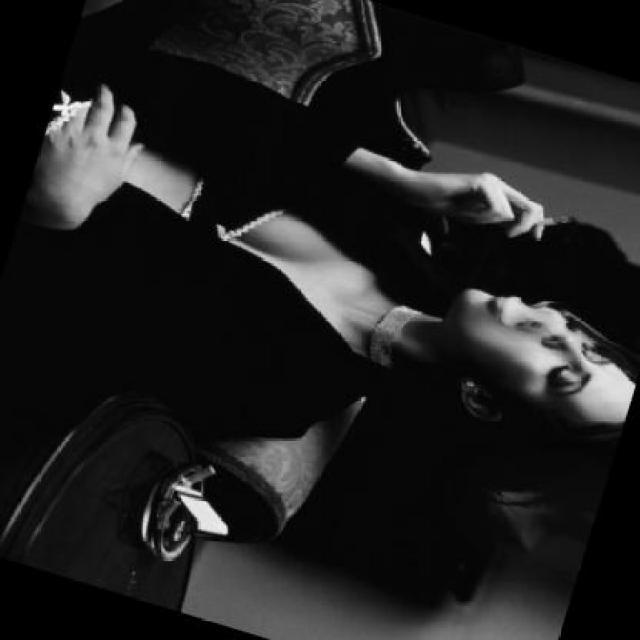smoke: (520, 202, 574, 241)
